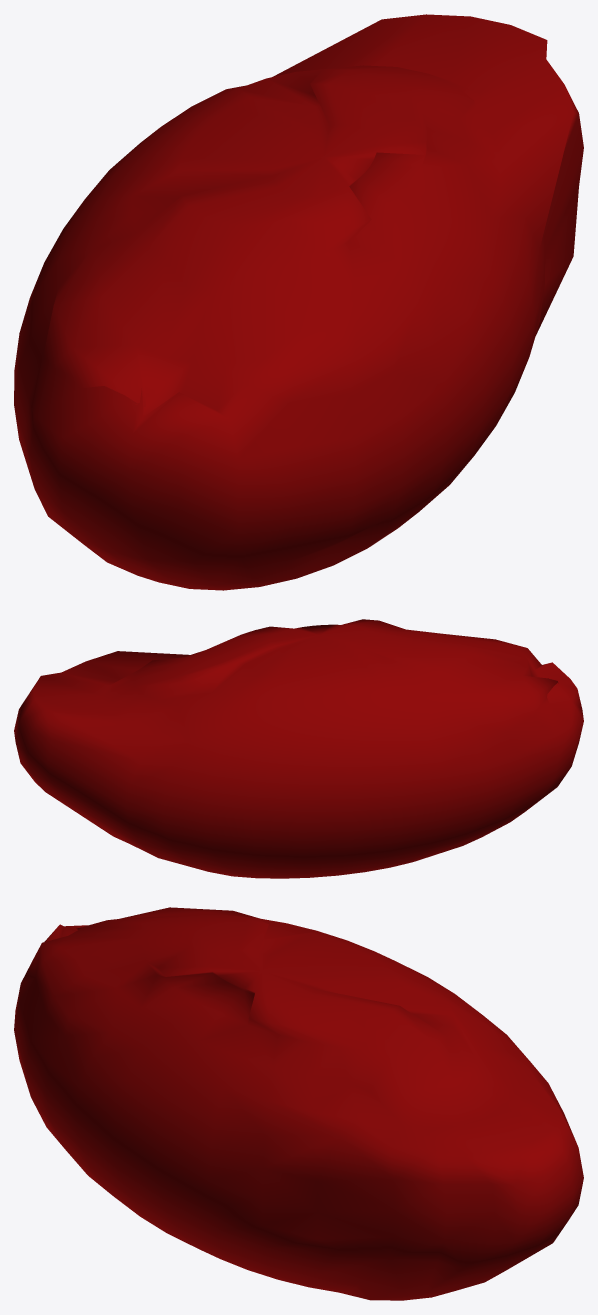
Rendered from redBean.glb.
The picture shows the model from 3 angles, top to bottom: view 1: azimuth 30°, elevation 25°; view 2: azimuth 150°, elevation 25°; view 3: azimuth 270°, elevation 25°; orthographic projection. The views are drawn at different scales.
Parts seen in each view (by area): view 1: Sphere; view 2: Sphere; view 3: Sphere.
Boxes of the visible parts, left/top/right/bottom form: Sphere: left=14, top=14, right=583, bottom=590; Sphere: left=14, top=619, right=583, bottom=878; Sphere: left=14, top=907, right=583, bottom=1300.
Size of the model in its own units: 5.96 by 2.92 by 5.2.
